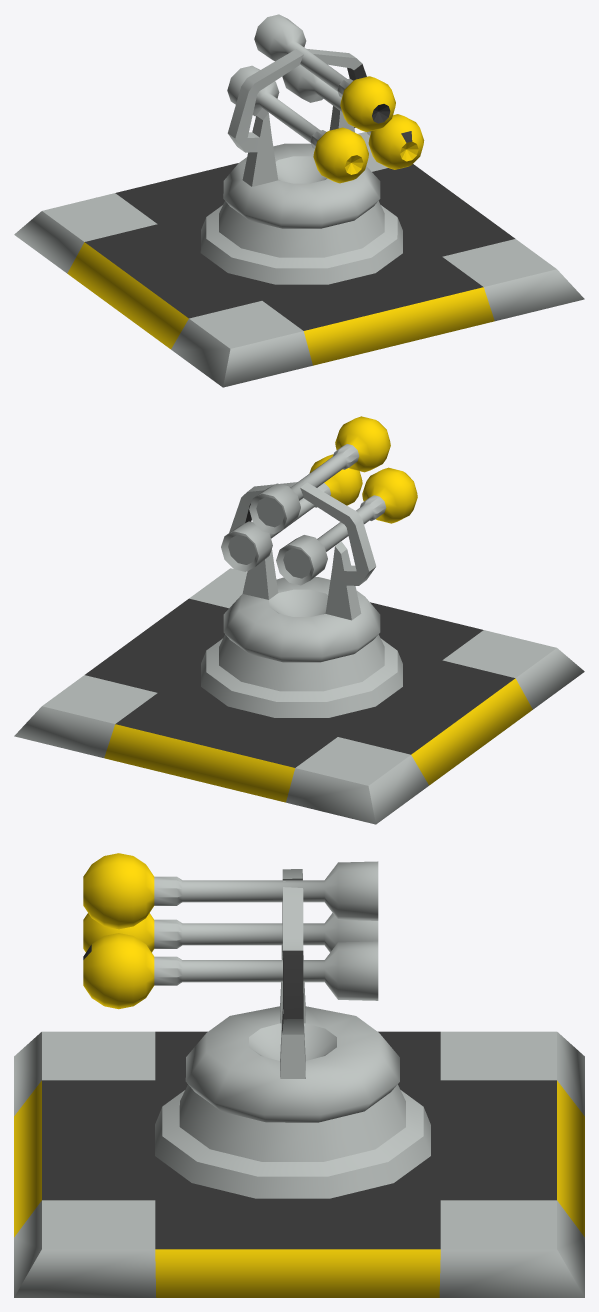
File: EMP tower1.fbx
The picture shows the model from 3 angles, top to bottom: view 1: azimuth 30°, elevation 25°; view 2: azimuth 150°, elevation 25°; view 3: azimuth 270°, elevation 25°; orthographic projection. The views are drawn at different scales.
Parts seen in each view (by area): view 1: EMP tower; view 2: EMP tower; view 3: EMP tower.
Boxes of the visible parts, x1,y1,x2,y2 form: EMP tower: (14, 14, 584, 387); EMP tower: (14, 416, 584, 824); EMP tower: (14, 853, 584, 1297).
Size of the model in its own units: 400 by 248 by 400.
